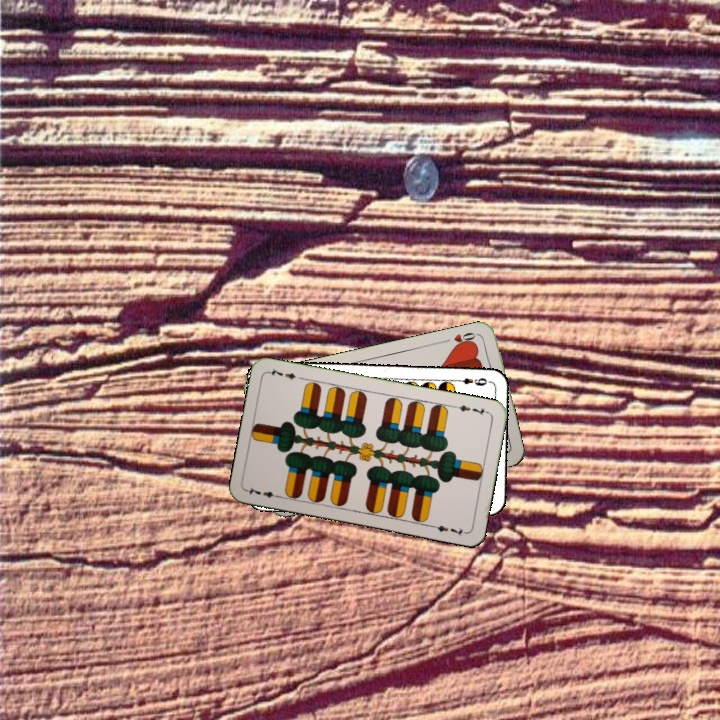E7: (243, 483, 284, 501), (451, 401, 491, 418)
E9: (451, 373, 489, 388)
HO: (441, 328, 482, 351)
